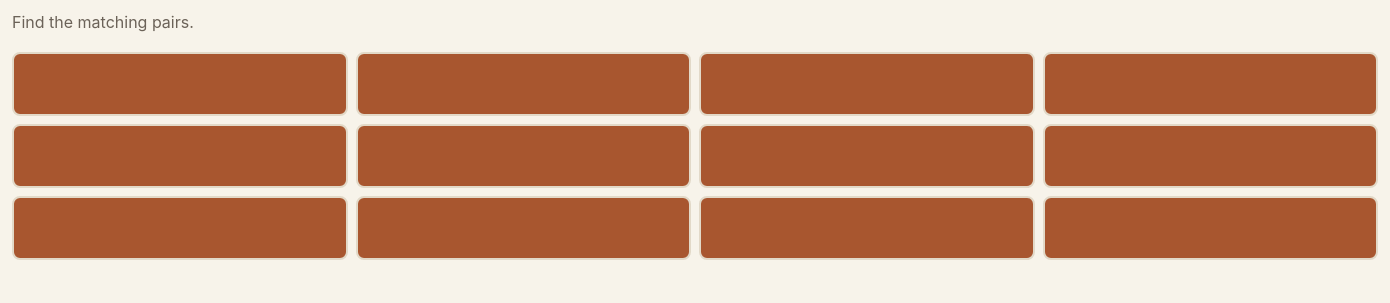
Test case: MatchingCardsGame › marks matched cards and announces a match or a miss
Click the button named "Card 1, face down" at (180, 84), box [12,52,348,116]
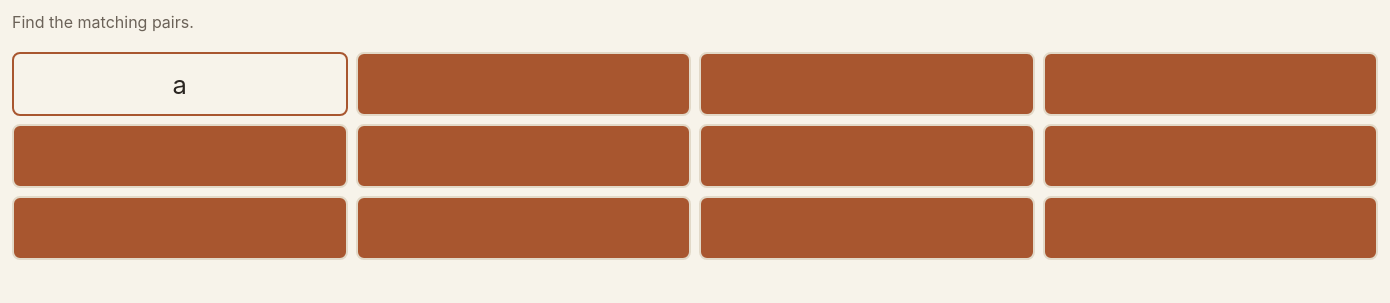
Click the button named "Card 2, face down" at (523, 84), box [356,52,691,116]
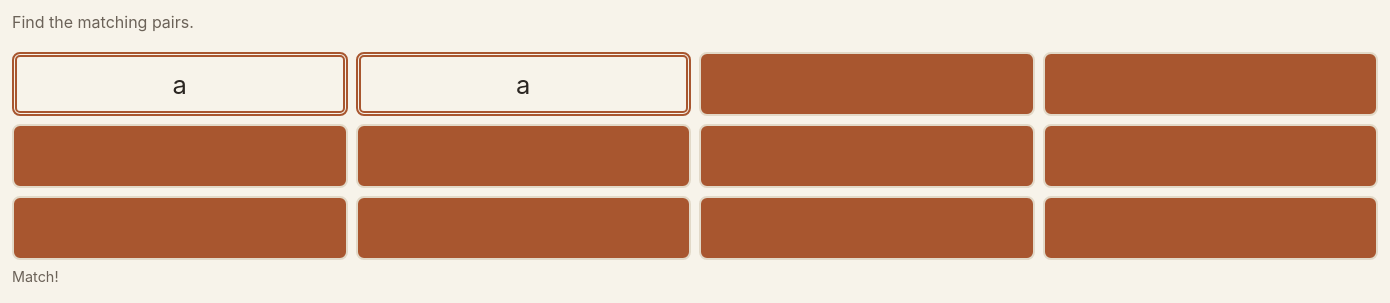
Check: the text "Match!" is shown, box [12,268,58,285]
Click the button named "Card 3, face down" at (867, 84), box [699,52,1034,116]
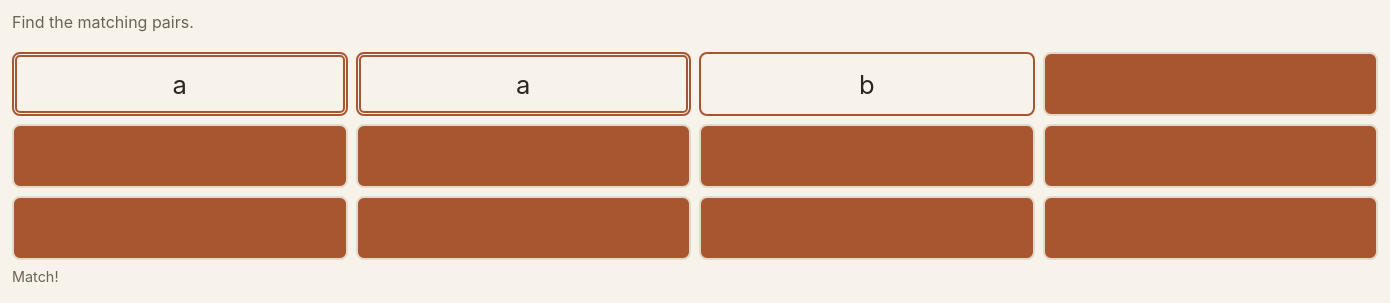
Click the button named "Card 5, face down" at (180, 156), box [12,124,348,188]
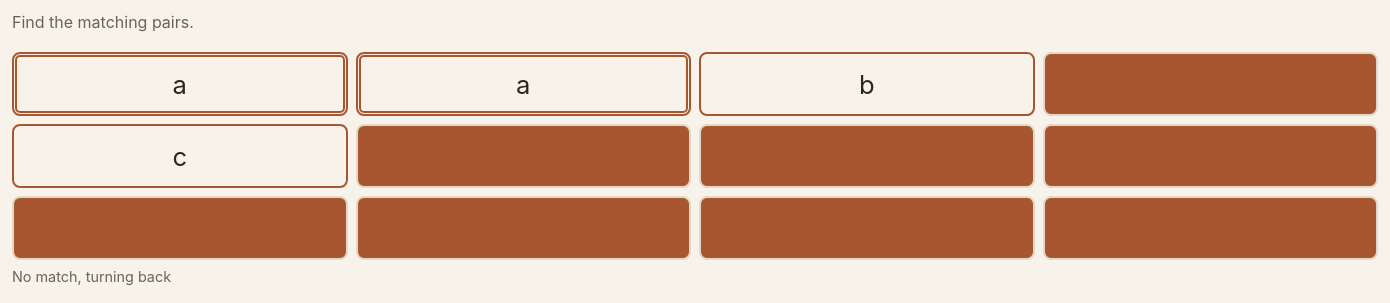
Check: the text "No match, turning back" is shown, box [12,268,171,285]
